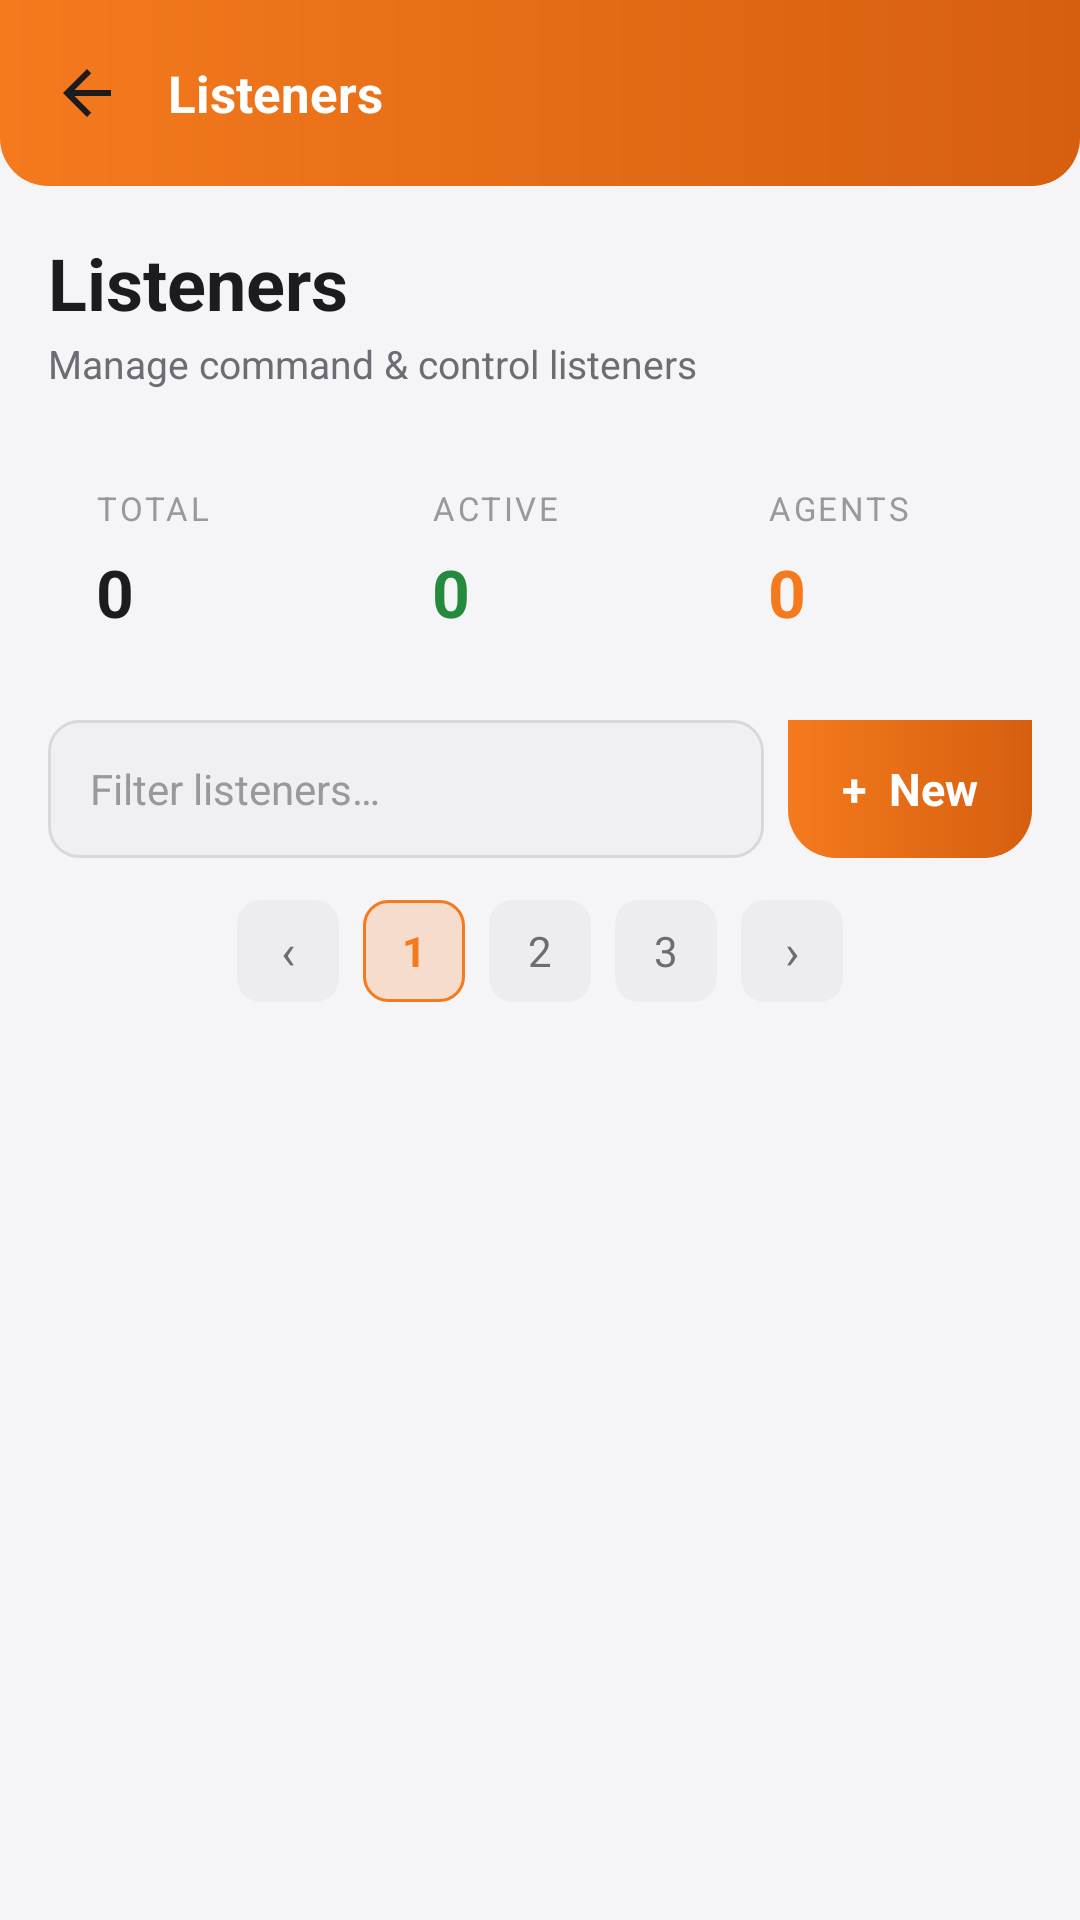

Icon bounding boxes for this 1080×1920 phone screenshot, format (x1, y1, x2, y2):
Back: (63, 69, 111, 117)
